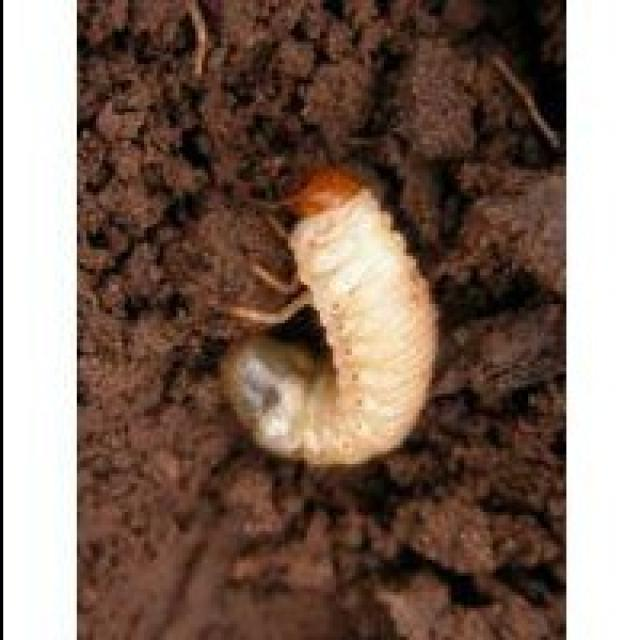grub: (212, 167, 443, 481)
